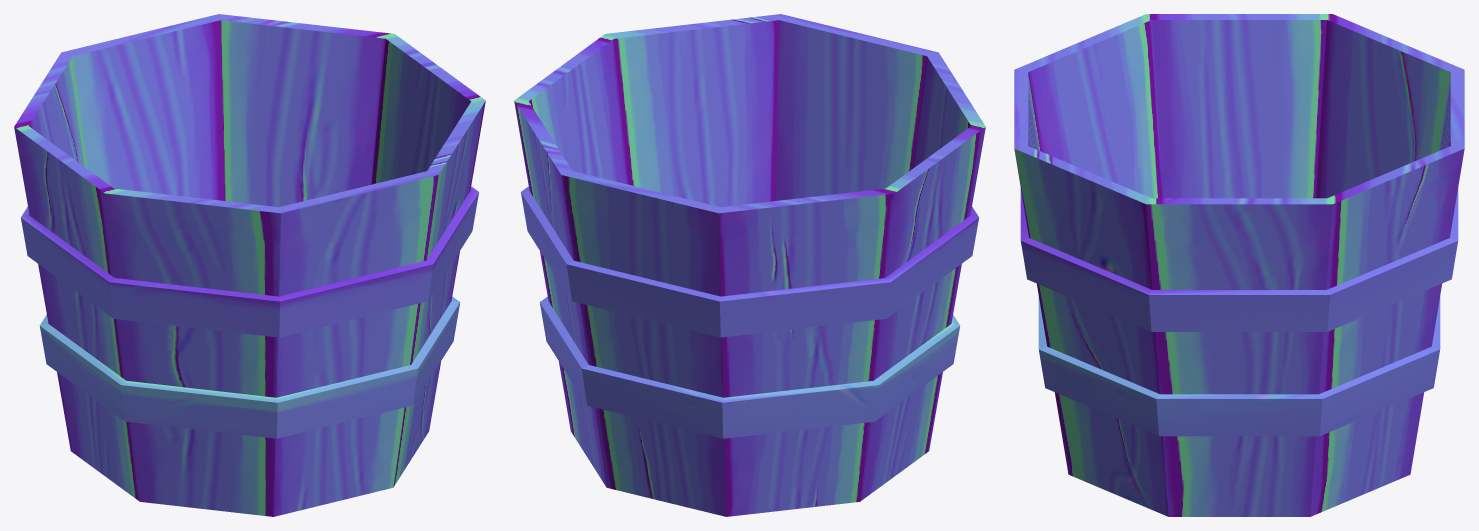
Rendered from SM_Bucket_A.fbx.
3 views of the same model, side by side, from view 1: azimuth 30°, elevation 25°; view 2: azimuth 150°, elevation 25°; view 3: azimuth 270°, elevation 25° (orthographic). The views are drawn at different scales.
Visible parts, largest first — view 1: SM_Bucket_A; view 2: SM_Bucket_A; view 3: SM_Bucket_A.
Part boxes in pixels (x1,y1,x2,y2): SM_Bucket_A: (14,14,485,516); SM_Bucket_A: (514,14,985,516); SM_Bucket_A: (1014,14,1464,516).
Bounding box in the file's own units: 38.92 × 32 × 38.92.
